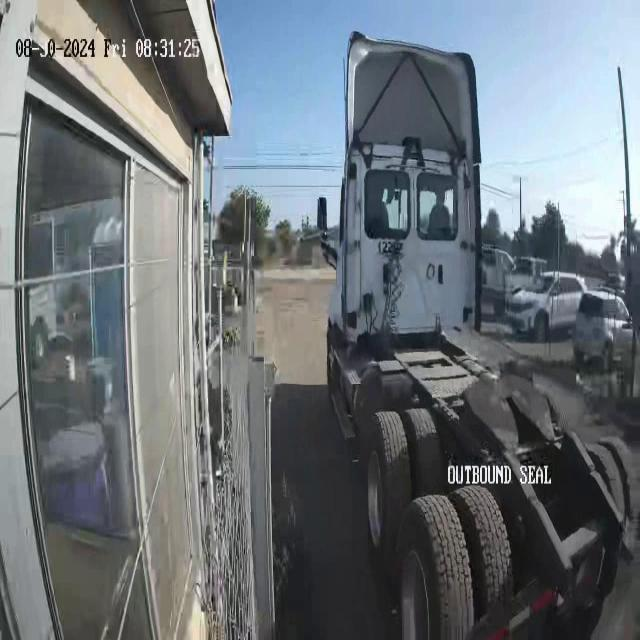TRUCK_OUT: (319, 30, 633, 638)
